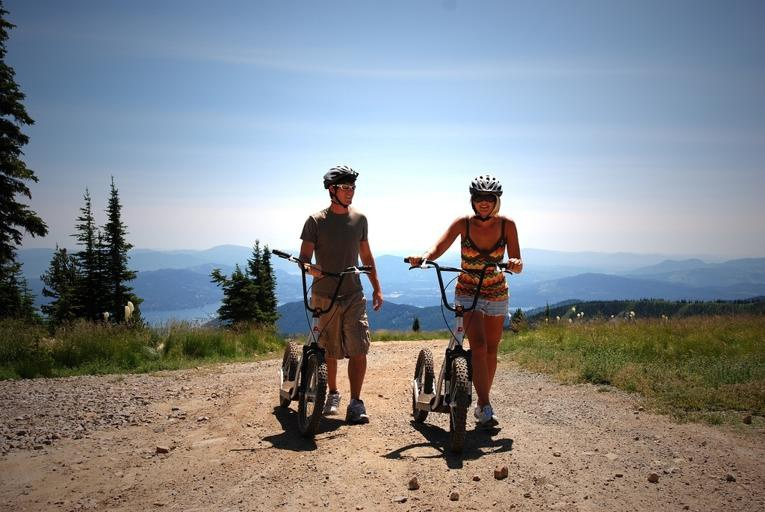non-vehicle: (398, 252, 517, 456), (266, 242, 376, 440)
